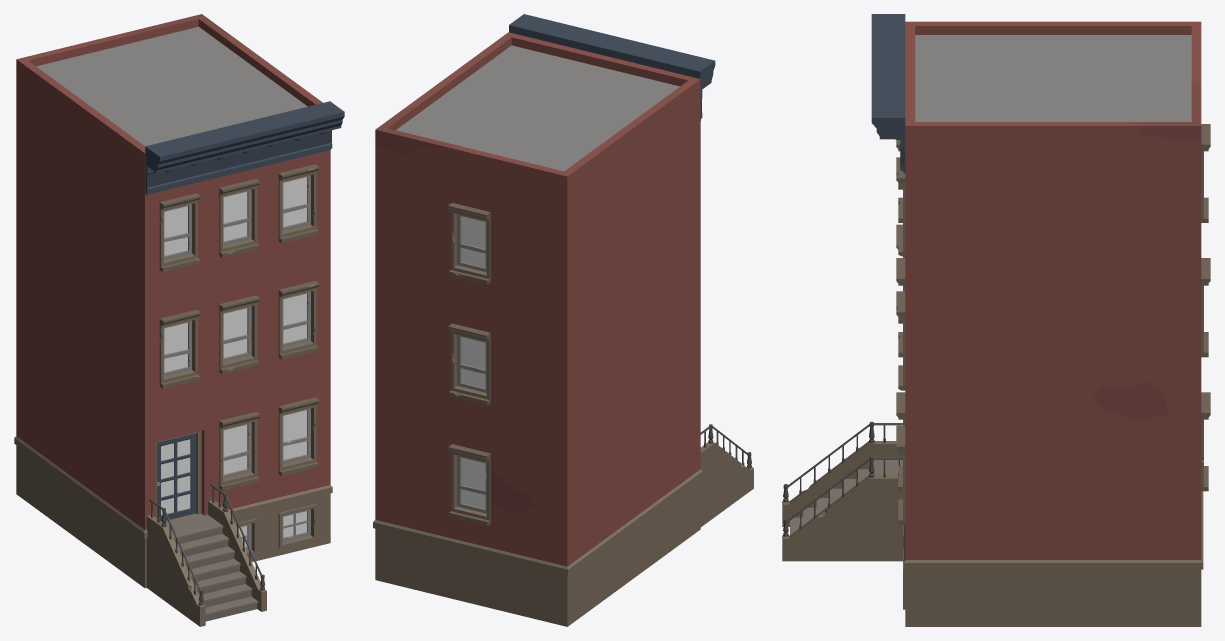
The model's file is SM_Bldg_City_Apartment_T1_3Floor_01.fbx.
3 views of the same model, side by side, from view 1: azimuth 30°, elevation 25°; view 2: azimuth 150°, elevation 25°; view 3: azimuth 270°, elevation 25° (orthographic). The views are drawn at different scales.
Visible parts, largest first — view 1: SM_Bldg_City_Apartment_T1_3Floor_01, SM_Bldg_City_Apartment_T1_3Floor_01_Glass, SM_Bldg_City_Apartment_T1_3Floor_01_Door; view 2: SM_Bldg_City_Apartment_T1_3Floor_01, SM_Bldg_City_Apartment_T1_3Floor_01_Glass; view 3: SM_Bldg_City_Apartment_T1_3Floor_01.
Boxes of the visible parts, x1,y1,x2,y2 form: SM_Bldg_City_Apartment_T1_3Floor_01: (14,14,344,626); SM_Bldg_City_Apartment_T1_3Floor_01_Glass: (164,177,306,546); SM_Bldg_City_Apartment_T1_3Floor_01_Door: (157,433,196,521); SM_Bldg_City_Apartment_T1_3Floor_01: (373,14,753,626); SM_Bldg_City_Apartment_T1_3Floor_01_Glass: (461,216,486,508); SM_Bldg_City_Apartment_T1_3Floor_01: (782,14,1210,626).
Size of the model in its own units: 507 by 1138 by 867.
